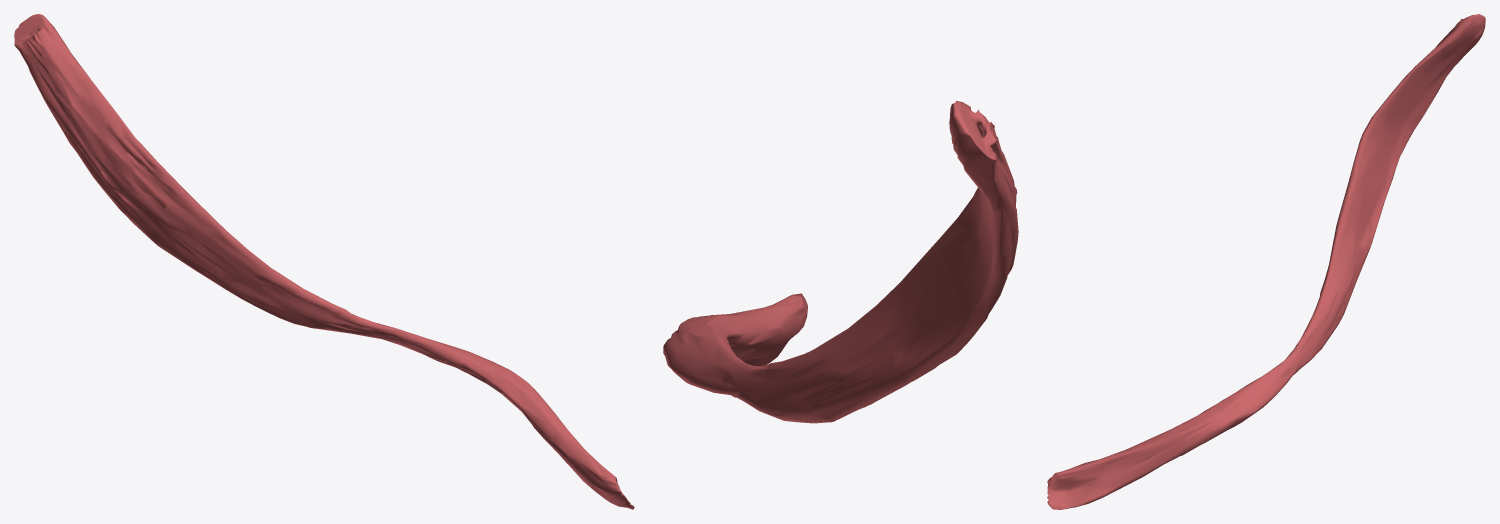
3 renders of one model, left to right at view 1: azimuth 30°, elevation 25°; view 2: azimuth 150°, elevation 25°; view 3: azimuth 270°, elevation 25°, orthographic. The views are drawn at different scales.
Visible parts, largest first — view 1: 右侧肩胛舌骨肌; view 2: 右侧肩胛舌骨肌; view 3: 右侧肩胛舌骨肌.
Part boxes in pixels (left/top/right/bottom): 右侧肩胛舌骨肌: left=14, top=14, right=634, bottom=509; 右侧肩胛舌骨肌: left=663, top=101, right=1018, bottom=423; 右侧肩胛舌骨肌: left=1047, top=14, right=1485, bottom=509.
Size of the model in its own units: 0.1338 by 0.1377 by 0.157.
